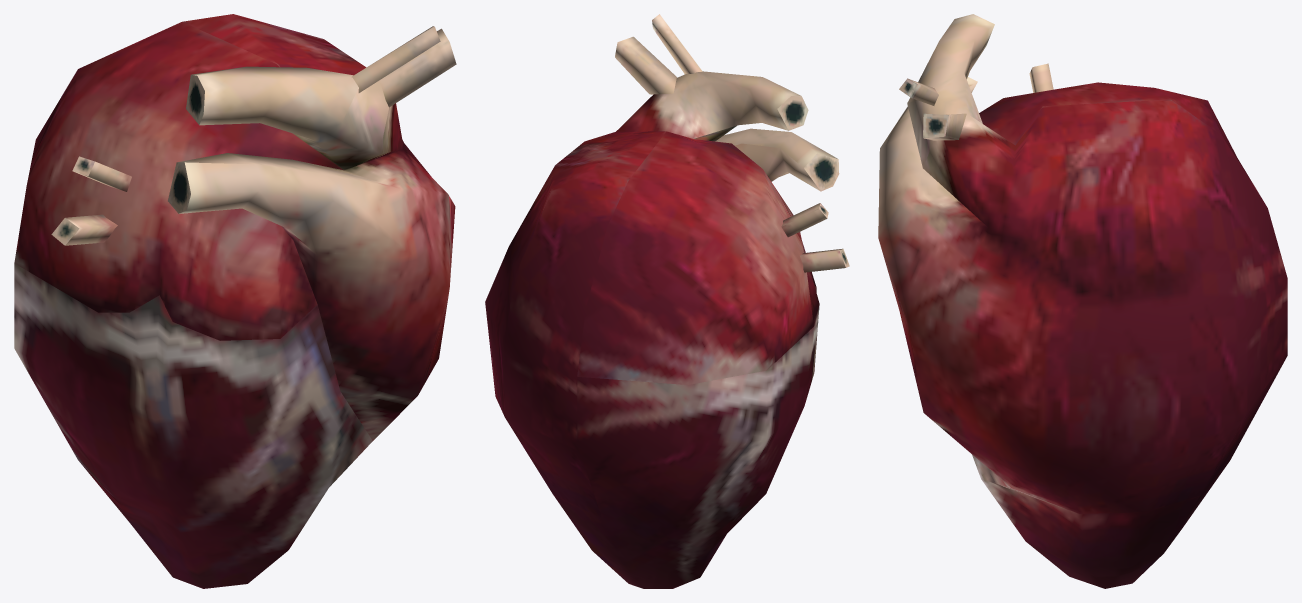
The model's file is eqp_organ_heart_s02_l1.fbx.
The picture shows the model from 3 angles, left to right: view 1: azimuth 30°, elevation 25°; view 2: azimuth 150°, elevation 25°; view 3: azimuth 270°, elevation 25°; orthographic projection. The views are drawn at different scales.
Parts seen in each view (by area): view 1: mesh_node; view 2: mesh_node; view 3: mesh_node.
Boxes of the visible parts, box(x1,y1,x2,y2) form: mesh_node: box(14, 14, 456, 588); mesh_node: box(485, 14, 849, 588); mesh_node: box(878, 14, 1287, 588).
Size of the model in its own units: 0.0928 by 0.1361 by 0.0915.
Materials: 1 (1 with a texture image).
